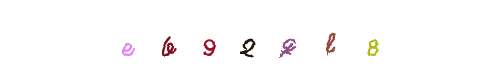2: (208, 0, 288, 80)
8: (333, 0, 413, 80)
9: (207, 0, 287, 80)
B: (185, 0, 265, 80)
E: (87, 0, 167, 80)
F: (229, 0, 309, 80)
Q: (220, 0, 300, 80)
